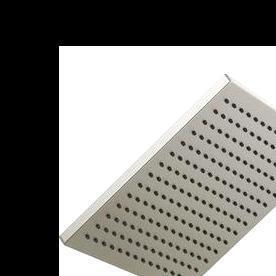Ducha: (59, 76, 276, 276)
